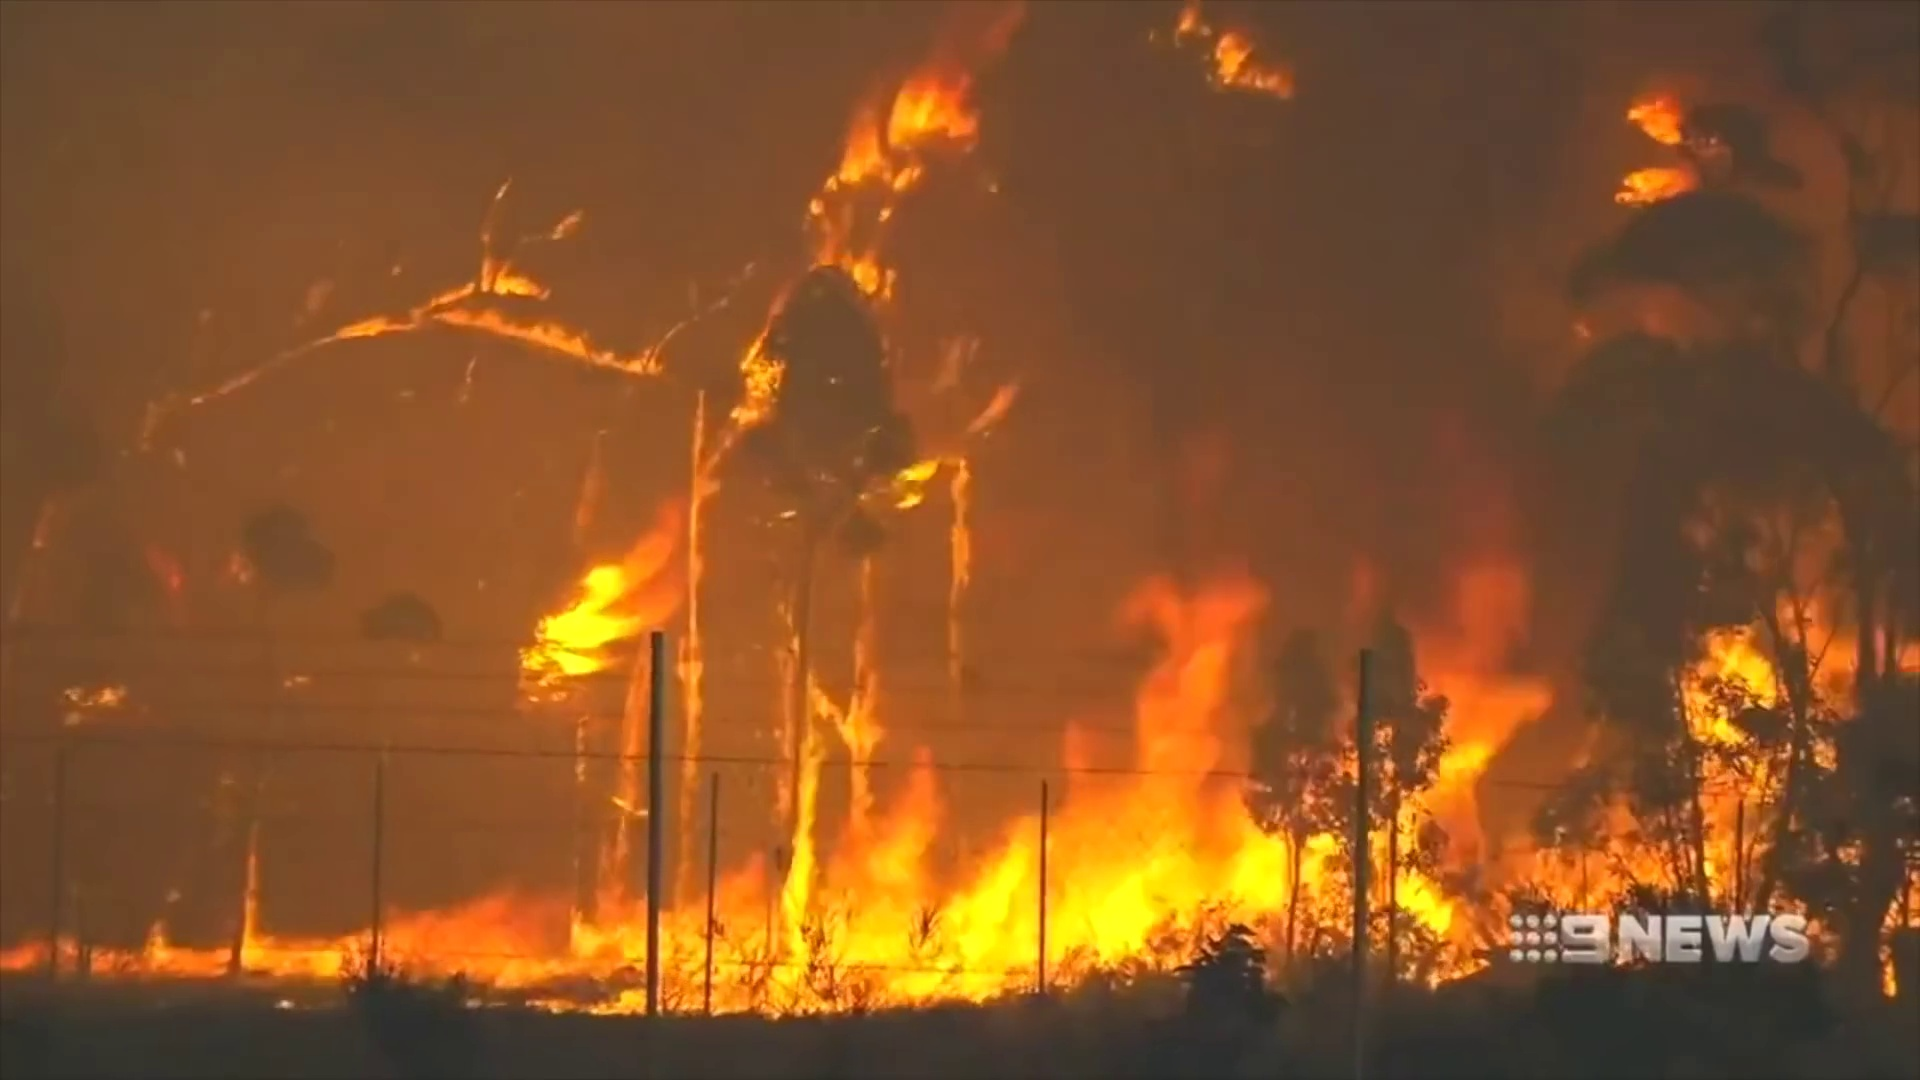fire: (889, 841, 1154, 1005), (855, 75, 963, 178), (530, 609, 622, 674), (450, 309, 555, 342), (1720, 624, 1764, 687), (1622, 166, 1691, 204), (1400, 870, 1443, 928), (742, 348, 778, 407), (1217, 25, 1247, 84), (1640, 108, 1687, 140), (477, 273, 535, 295)
